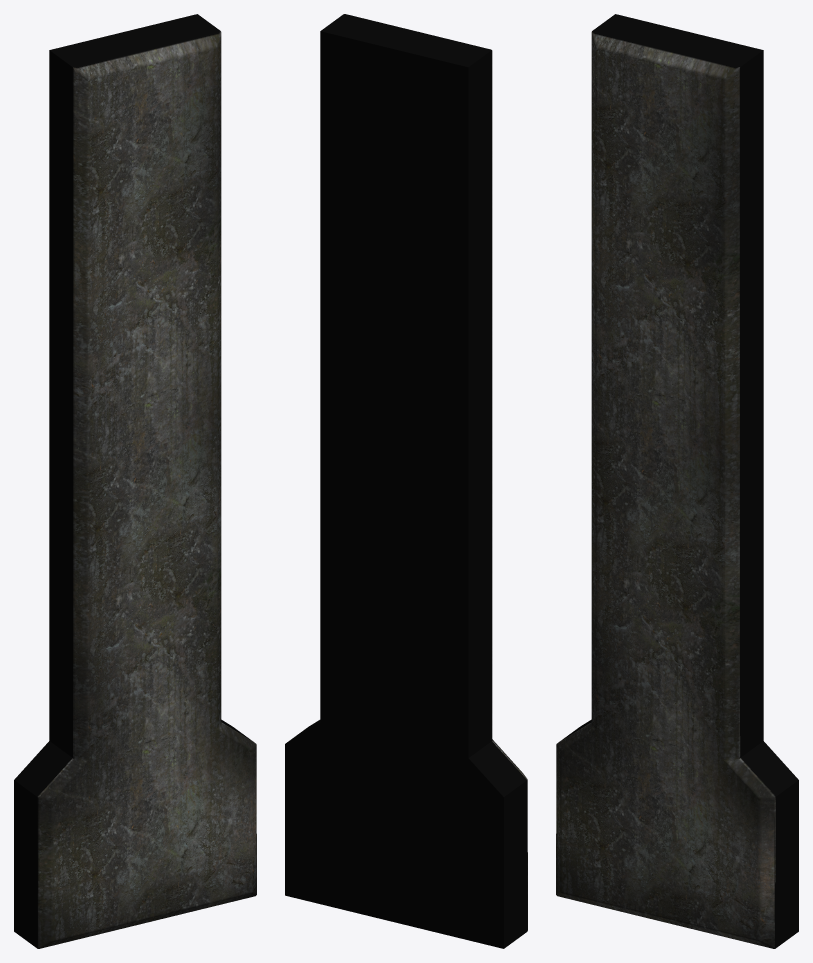
Rendered from Building 3 fron deco 2.fbx.
The picture shows the model from 3 angles, left to right: view 1: azimuth 30°, elevation 25°; view 2: azimuth 150°, elevation 25°; view 3: azimuth 330°, elevation 25°; orthographic projection.
Parts seen in each view (by area): view 1: Cube.136; view 2: Cube.136; view 3: Cube.136.
Part boxes in pixels (box(x1,y1,x2,y2)): Cube.136: box(14, 14, 256, 948); Cube.136: box(285, 14, 527, 948); Cube.136: box(556, 14, 798, 948).
Bounding box in the file's own units: 117 × 445 × 27.
